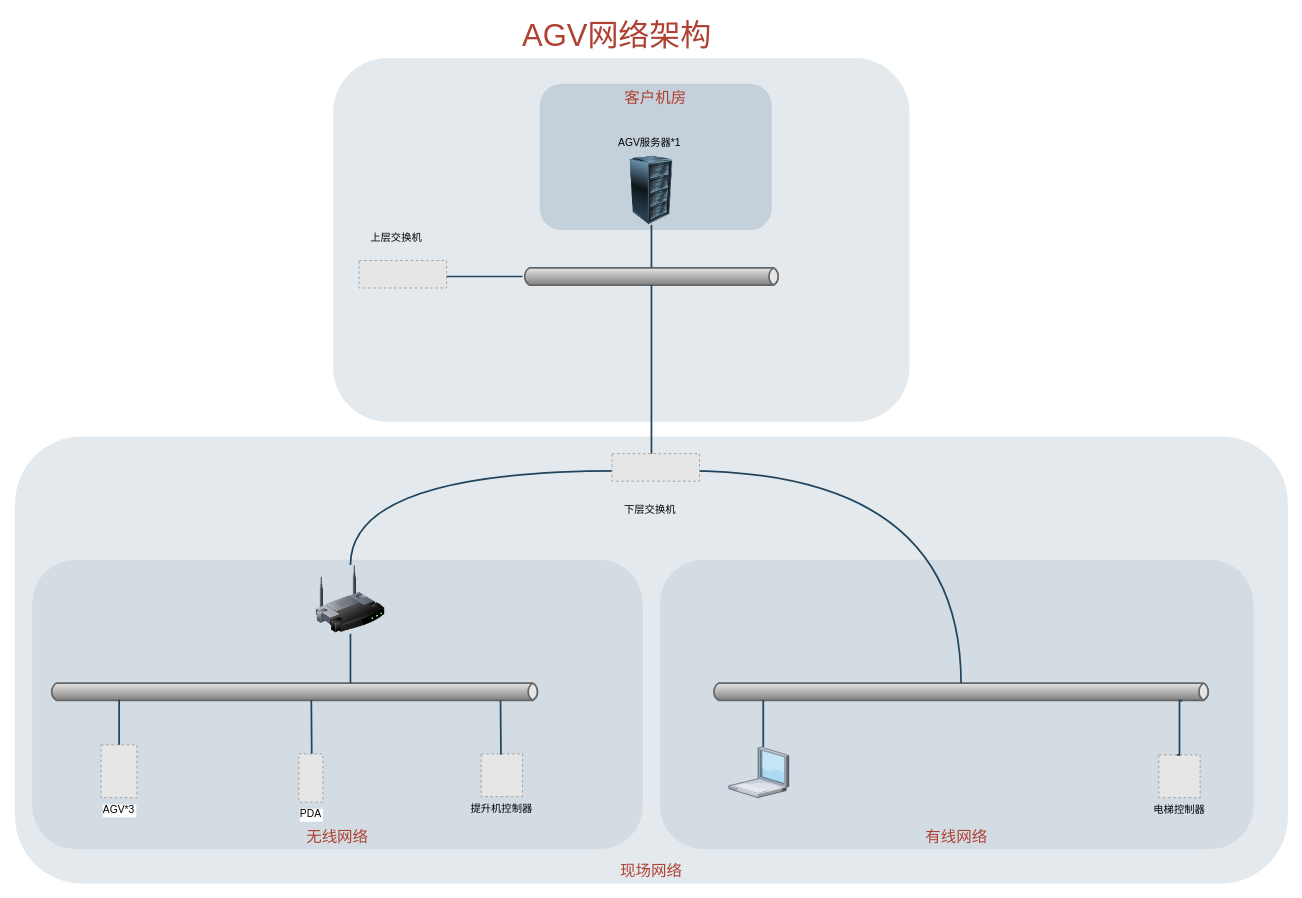
Some shapes in this 1302 by 898 pixel diagram are drawn without their labels. Grey dashed boxes stand in for pictures. Each missing label, with the centre of its shape:
AP: the point at 350,599
监控客户端电脑: the point at 758,771
